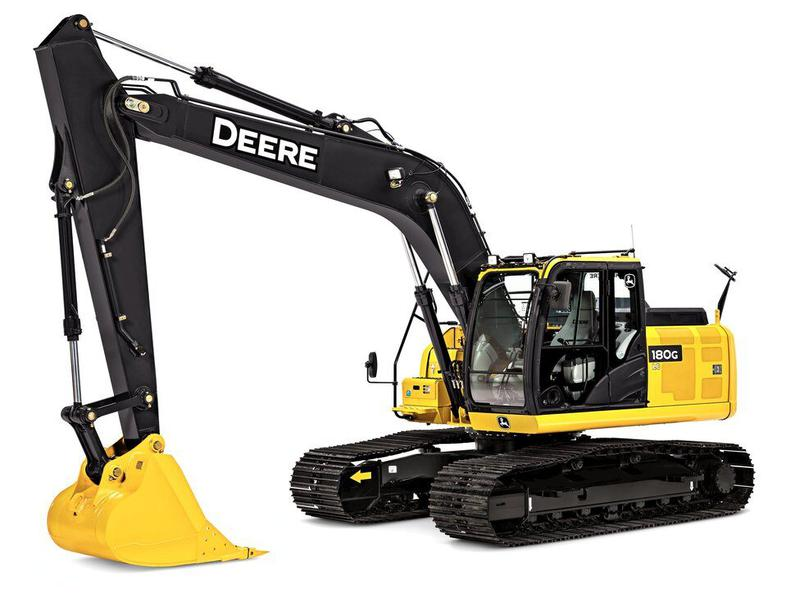shovel: (31, 11, 755, 571)
